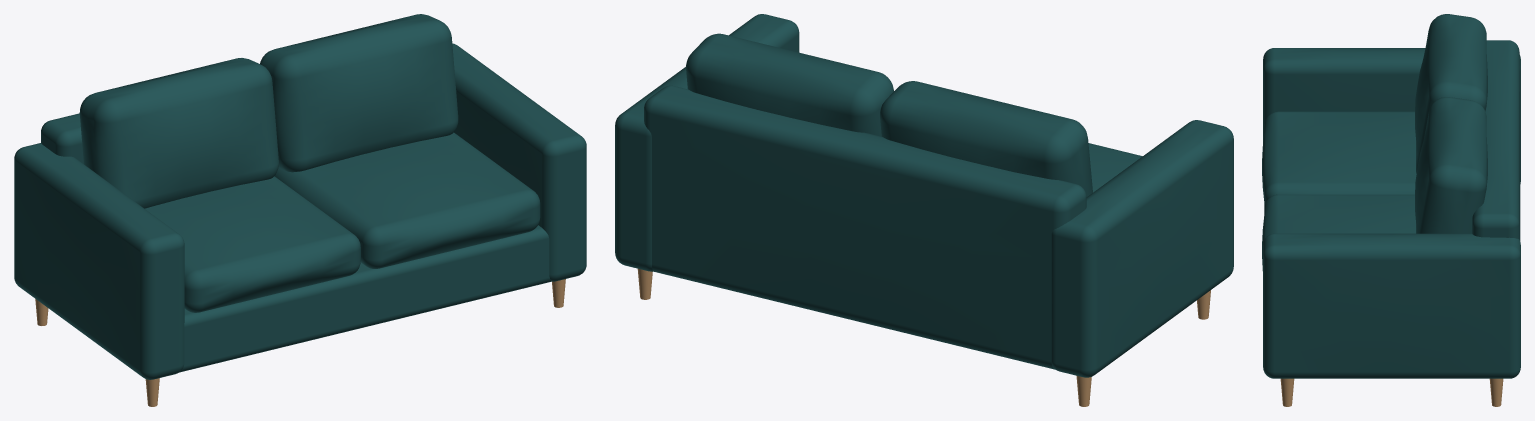
Rendered from sofa2.glb.
3 views of the same model, side by side, from view 1: azimuth 30°, elevation 25°; view 2: azimuth 150°, elevation 25°; view 3: azimuth 270°, elevation 25° (orthographic). The views are drawn at different scales.
Visible parts, largest first — view 1: sofa2_fabric_soft, sofa2_fabric, sofa2_wood; view 2: sofa2_fabric, sofa2_fabric_soft, sofa2_wood; view 3: sofa2_fabric, sofa2_fabric_soft, sofa2_wood.
Part boxes in pixels (x1,y1,x2,y2): sofa2_fabric_soft: (79,14,540,312); sofa2_fabric: (14,43,586,379); sofa2_wood: (35,279,565,406); sofa2_fabric: (615,14,1233,377); sofa2_fabric_soft: (686,33,1142,196); sofa2_wood: (637,268,1210,406); sofa2_fabric: (1263,40,1520,378); sofa2_fabric_soft: (1262,14,1487,270); sofa2_wood: (1280,378,1503,406).
Size of the model in its own units: 1.7 by 0.85 by 0.9.
